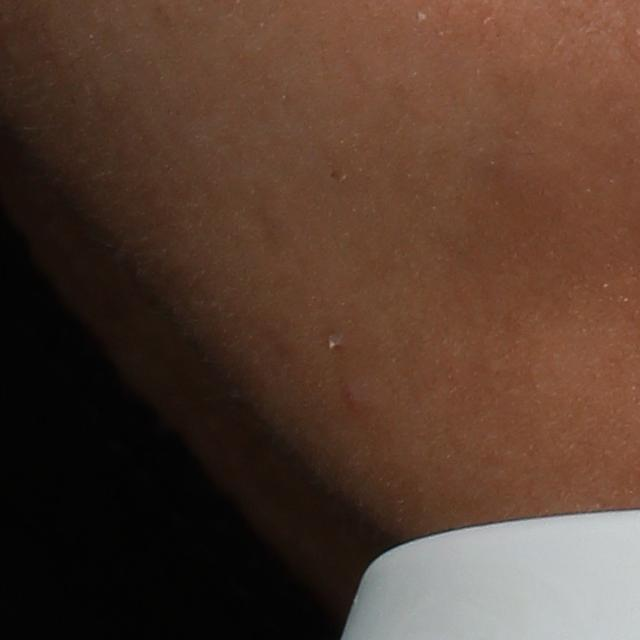papule: (337, 383, 369, 414)
